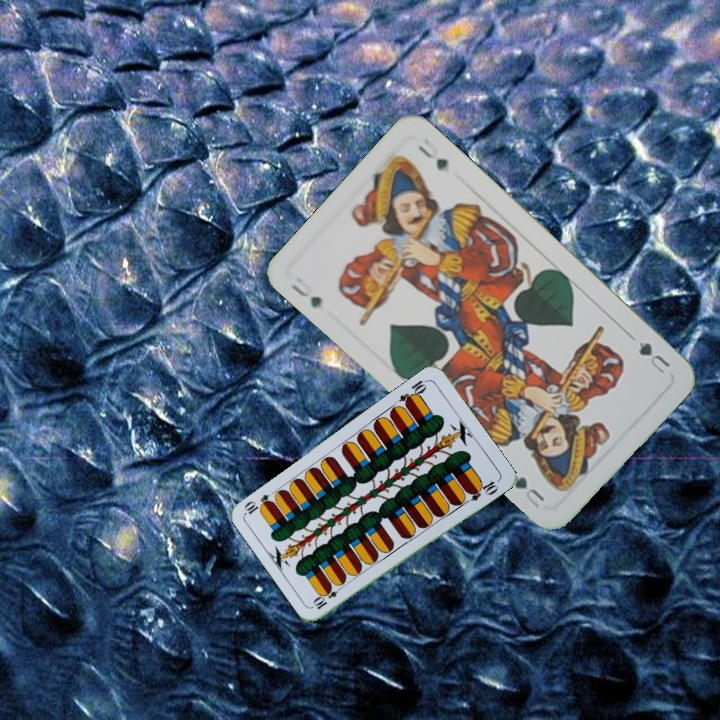E10: (309, 580, 346, 612), (395, 376, 430, 409)
GU: (632, 337, 673, 377), (287, 280, 325, 311)
